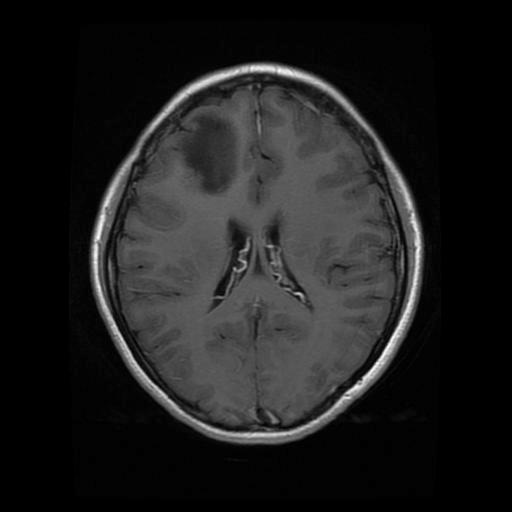Tumour-Glioma: (185, 109, 243, 196)
